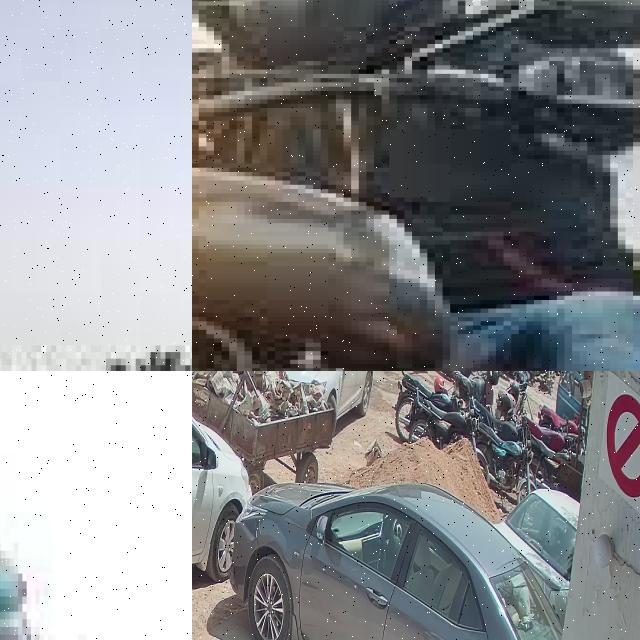bike: (192, 31, 640, 371), (392, 371, 457, 442), (406, 388, 478, 450), (477, 417, 533, 492), (472, 394, 527, 443), (530, 433, 574, 491), (538, 403, 585, 455), (454, 371, 496, 415), (497, 373, 531, 418), (527, 418, 569, 452)
car: (229, 480, 563, 640), (0, 371, 65, 640), (192, 371, 252, 640), (503, 488, 578, 607), (244, 371, 375, 430)
